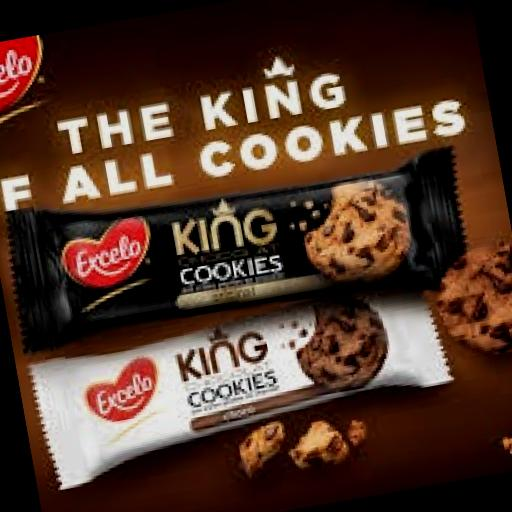king-cooking: (0, 103, 491, 372)
